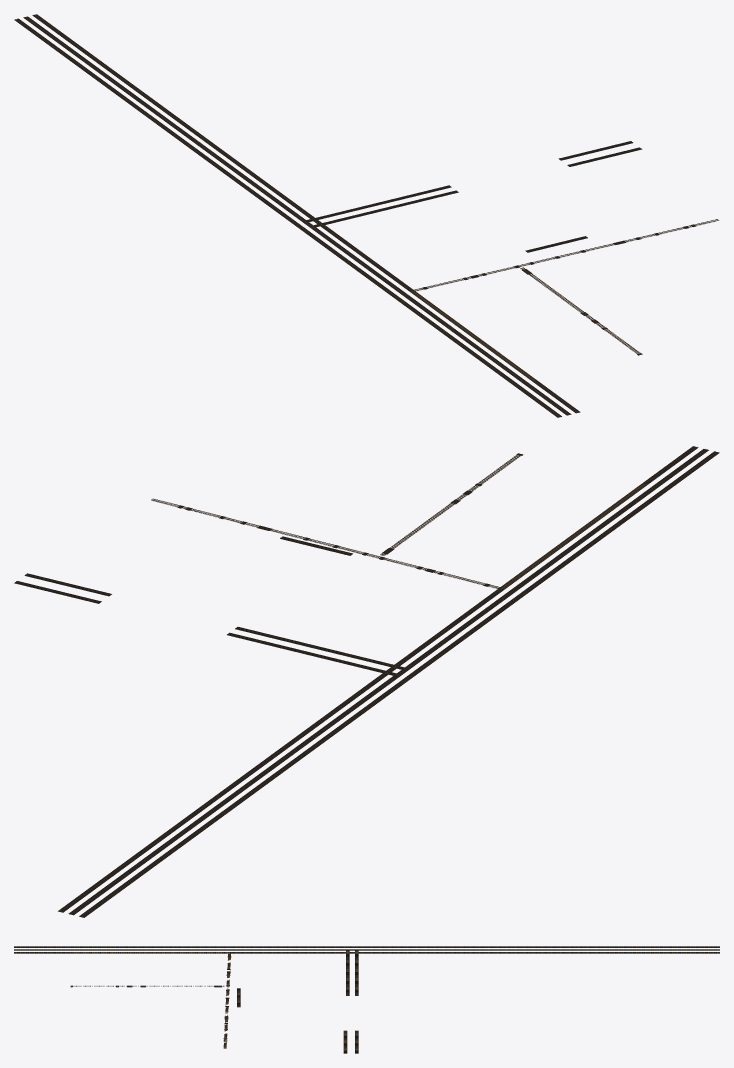
The model's file is A_rail.glb.
The picture shows the model from 3 angles, top to bottom: view 1: azimuth 30°, elevation 25°; view 2: azimuth 150°, elevation 25°; view 3: azimuth 270°, elevation 25°; orthographic projection. The views are drawn at different scales.
Visible parts, largest first — view 1: A_rail; view 2: A_rail; view 3: A_rail.
Part boxes in pixels (box(x1,y1,x2,y2)): A_rail: box(14, 14, 719, 417); A_rail: box(14, 446, 719, 917); A_rail: box(14, 946, 719, 1053).
Bounding box in the file's own units: 224 × 3.27 × 622.
Materials: 3 (3 with a texture image).
